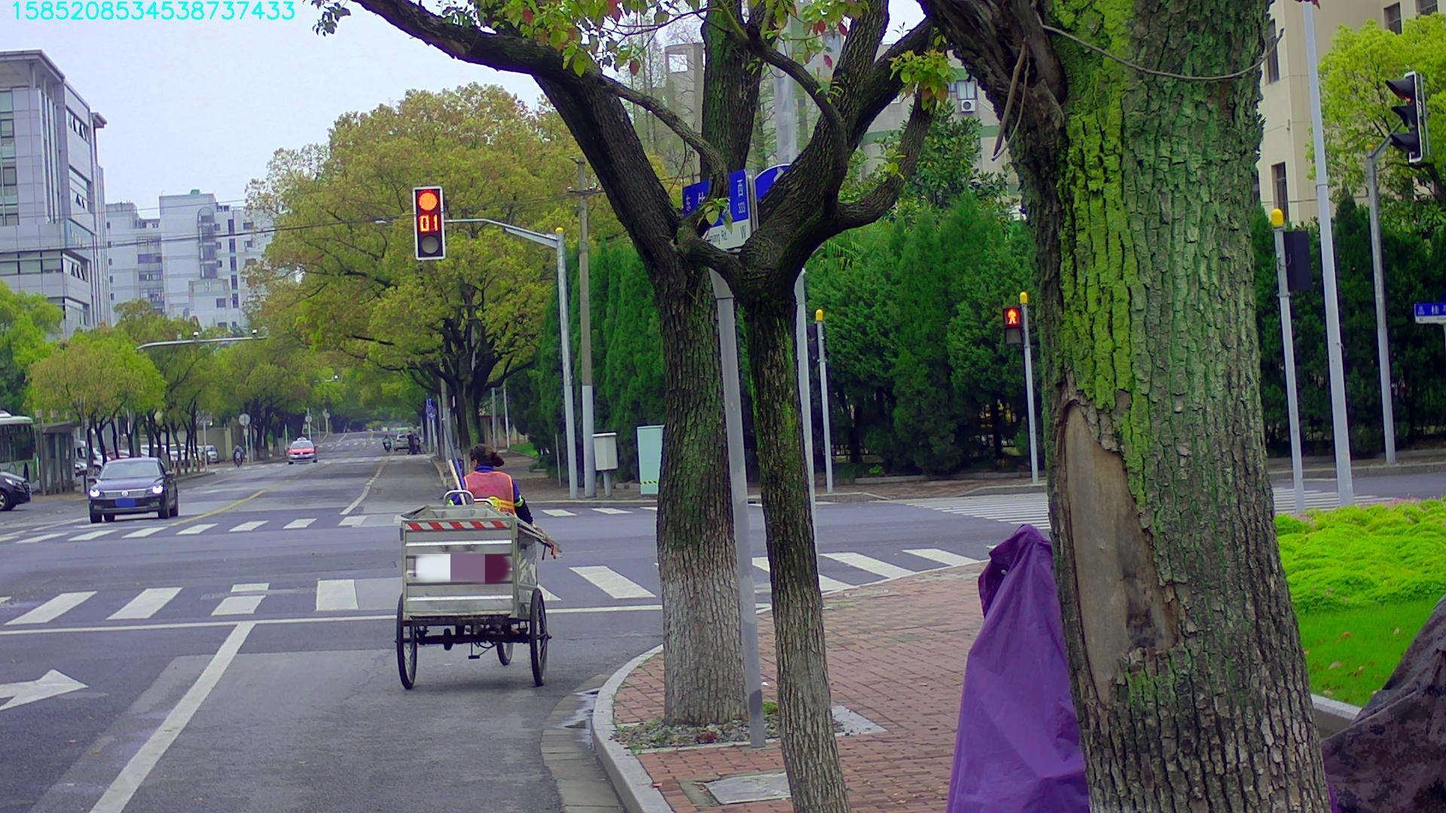red: (413, 187, 443, 258)
